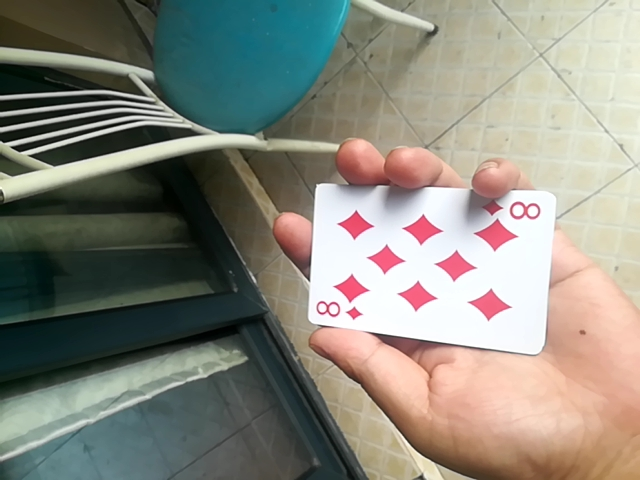fk 8: (300, 182, 555, 352)
